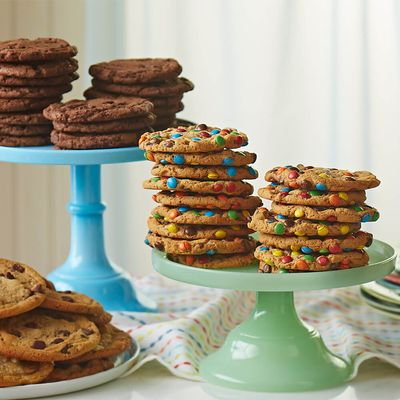soup: (0, 256, 132, 387)
